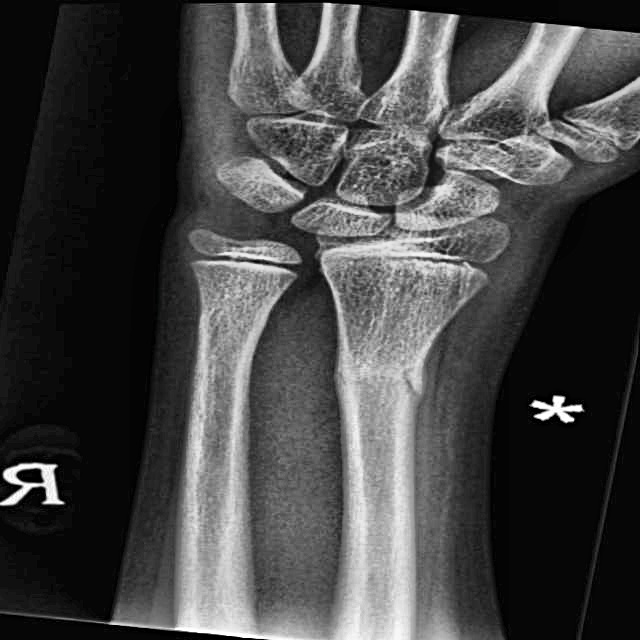Greenstick: (338, 337, 465, 424)
